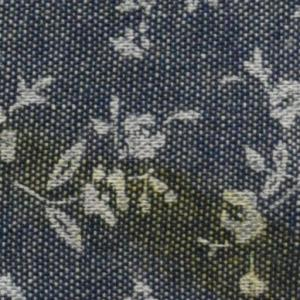Oil Stain: (80, 158, 300, 300), (1, 125, 60, 204)
